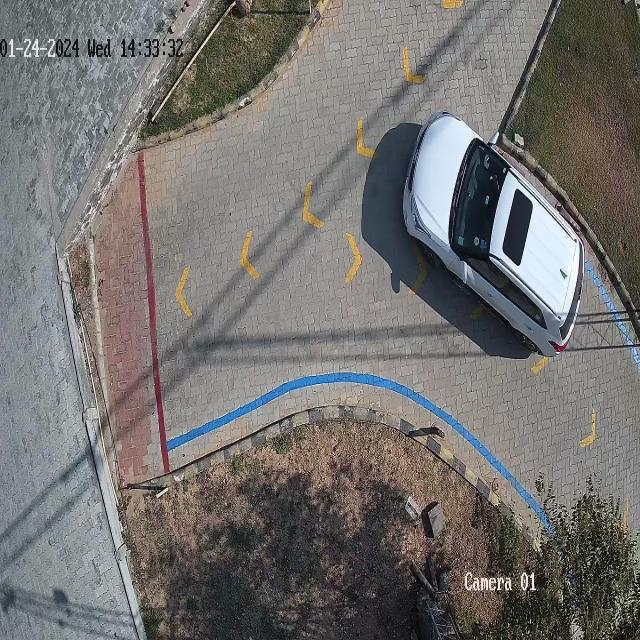car: (402, 111, 585, 356)
